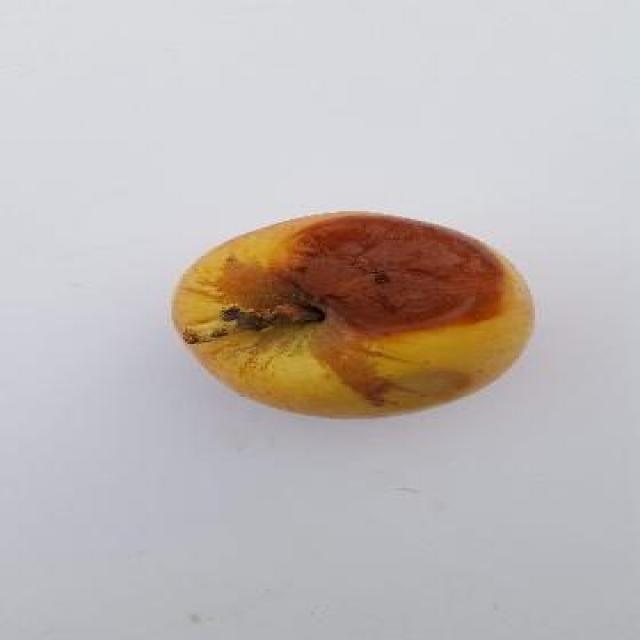Rotten: (168, 212, 530, 418)
